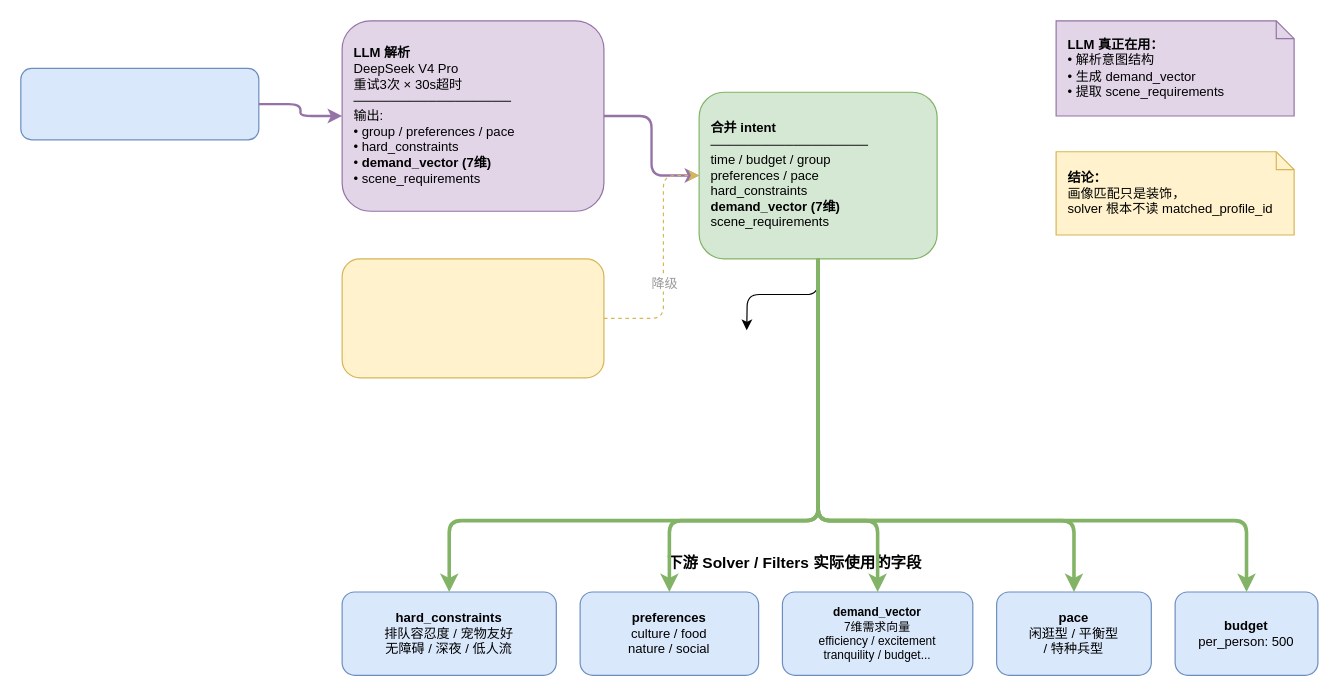
The diagram is 1339 pixels wide and 696 high, and some of its shapes have lost their labels. Here are the shapes that lost their labels. From the top down, the centre of each, then its label:
point (139, 103): 用户输入 "周末想出去走走， 不想去人多的地方"
point (472, 318): _rule_based_parse LLM 失败时降级 ───────────────── 正则 + 关键词提取 demand_vector 用默认 0.5
